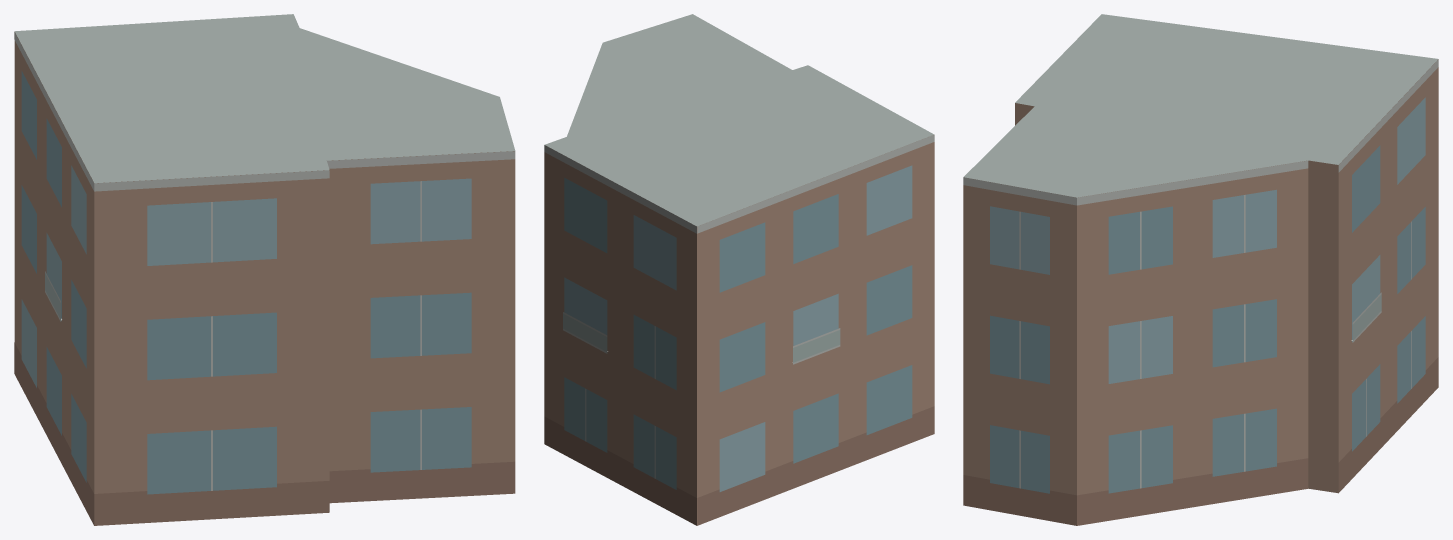
File: survey-upis-32509392.glb
The picture shows the model from 3 angles, left to right: view 1: azimuth 30°, elevation 25°; view 2: azimuth 150°, elevation 25°; view 3: azimuth 270°, elevation 25°; orthographic projection. The views are drawn at different scales.
Parts seen in each view (by area): view 1: survey-upis-32509392.tmp; view 2: survey-upis-32509392.tmp; view 3: survey-upis-32509392.tmp.
Part boxes in pixels (x1,y1,x2,y2): survey-upis-32509392.tmp: (14, 14, 515, 525); survey-upis-32509392.tmp: (544, 14, 934, 525); survey-upis-32509392.tmp: (963, 14, 1438, 525).
Size of the model in its own units: 12.13 by 10.1 by 13.26.
